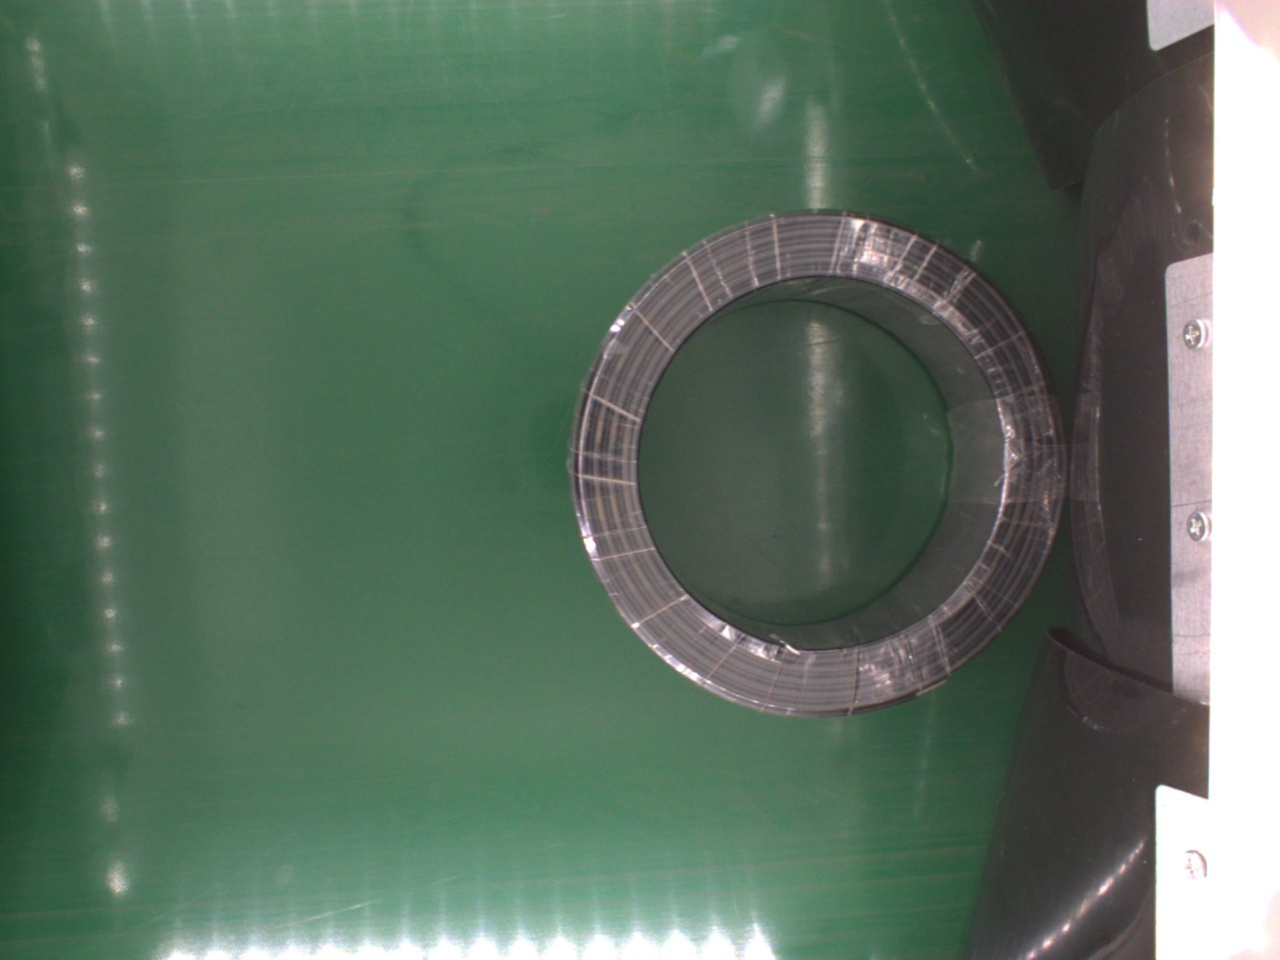black: (571, 205, 1066, 719)
